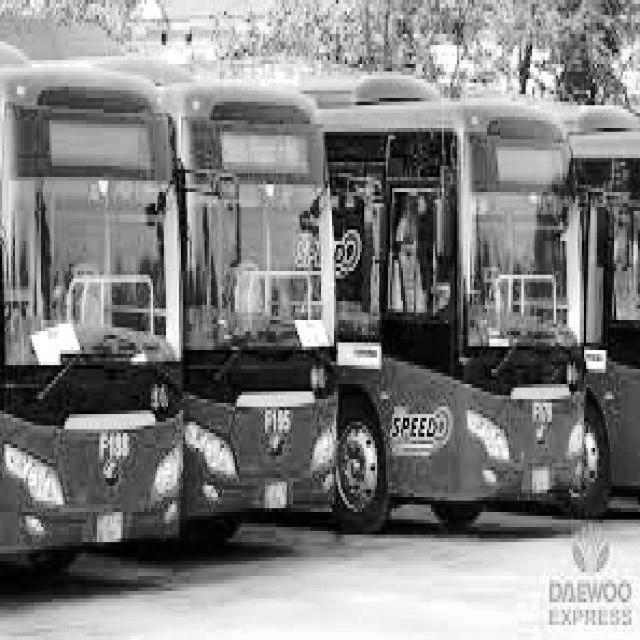Bus: (323, 58, 596, 592), (0, 41, 185, 576), (167, 59, 346, 538)
